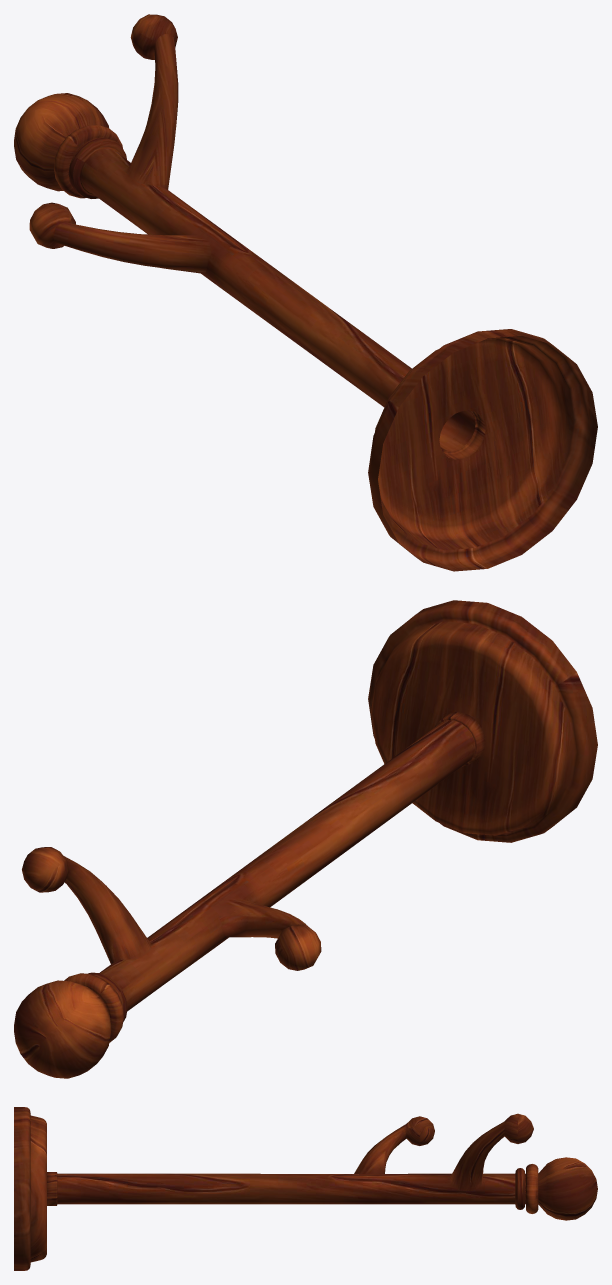
The model's file is Perchero Fin.FBX.
3 views of the same model, one above another, from view 1: azimuth 30°, elevation 25°; view 2: azimuth 150°, elevation 25°; view 3: azimuth 270°, elevation 25° (orthographic). The views are drawn at different scales.
Visible parts, largest first — view 1: Perchero:Perchero; view 2: Perchero:Perchero; view 3: Perchero:Perchero.
Part boxes in pixels (left/top/right/bottom): Perchero:Perchero: left=14, top=14, right=597, bottom=571; Perchero:Perchero: left=14, top=600, right=597, bottom=1078; Perchero:Perchero: left=14, top=1107, right=597, bottom=1270.
Bounding box in the file's own units: 52.79 × 51.02 × 163.
1 material, 1 textured.
